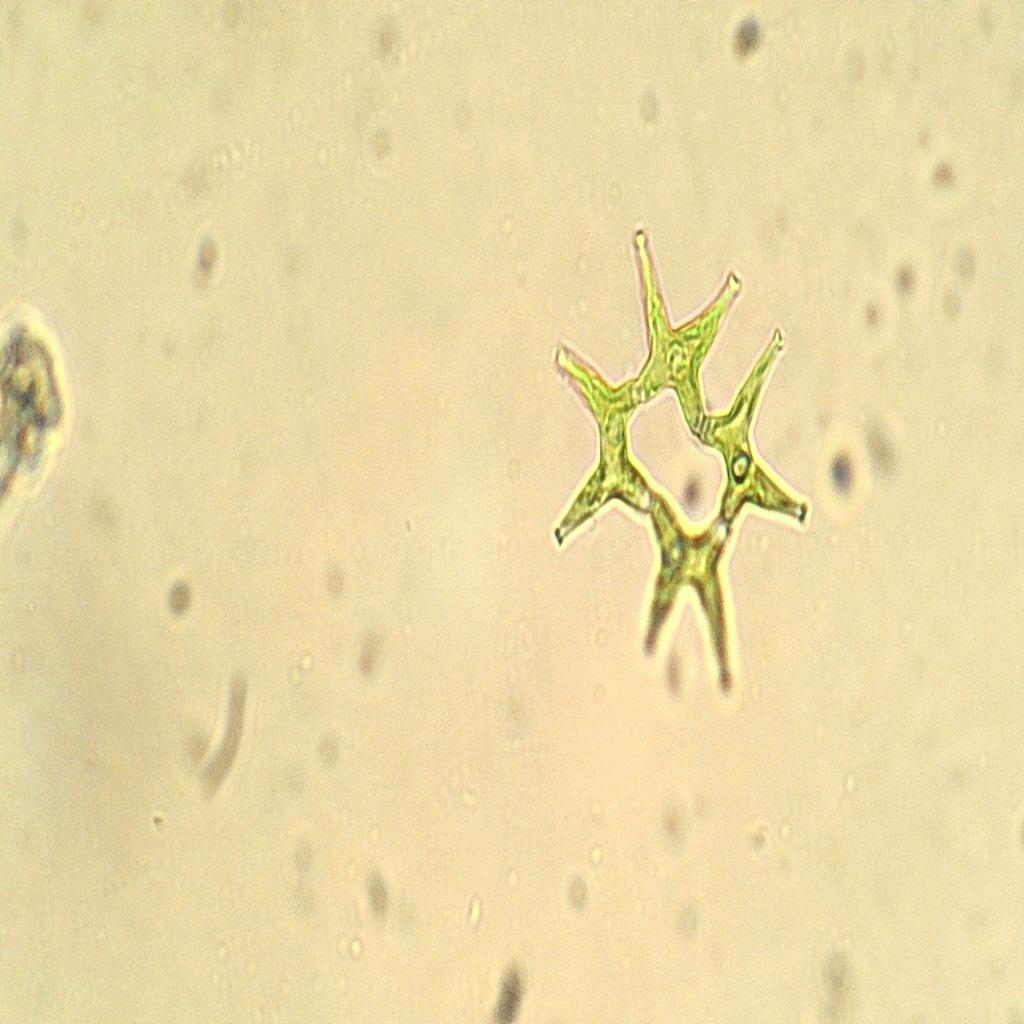Pediastrum_75O: (510, 201, 841, 714)
